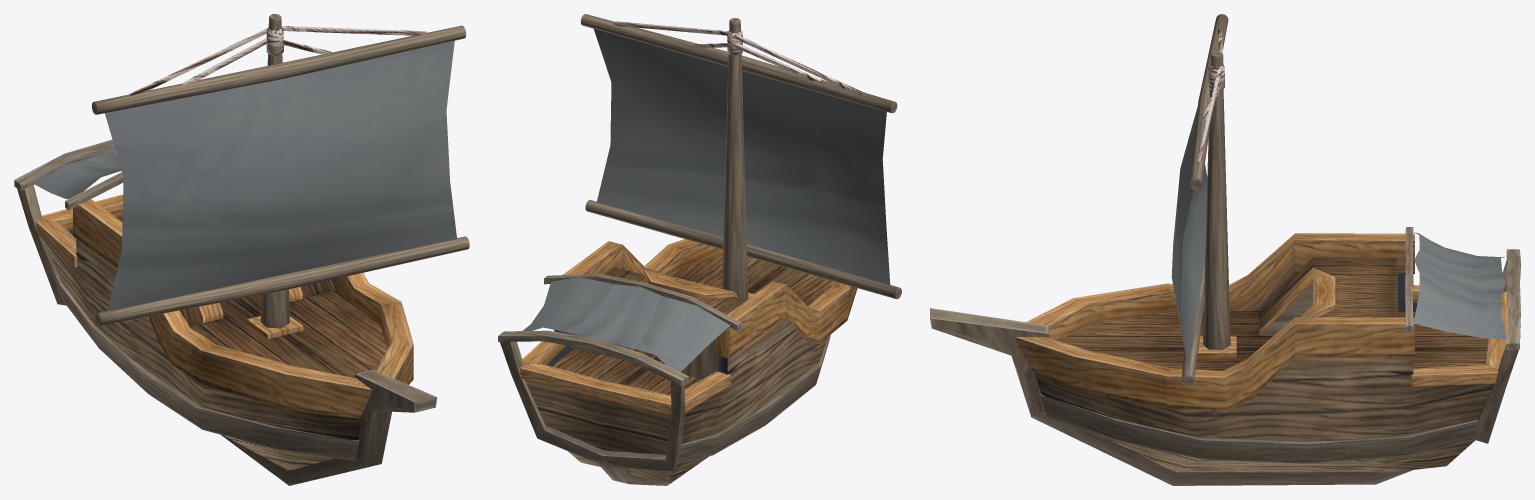
Rendered from SloopShip.fbx.
3 renders of one model, left to right at view 1: azimuth 30°, elevation 25°; view 2: azimuth 150°, elevation 25°; view 3: azimuth 270°, elevation 25°, orthographic. The views are drawn at different scales.
Visible parts, largest first — view 1: SlopShip; view 2: SlopShip; view 3: SlopShip.
Part boxes in pixels (x1,y1,x2,y2): SlopShip: (14, 14, 469, 485); SlopShip: (498, 14, 901, 485); SlopShip: (930, 14, 1520, 485).
Bounding box in the file's own units: 519 × 626 × 783.
